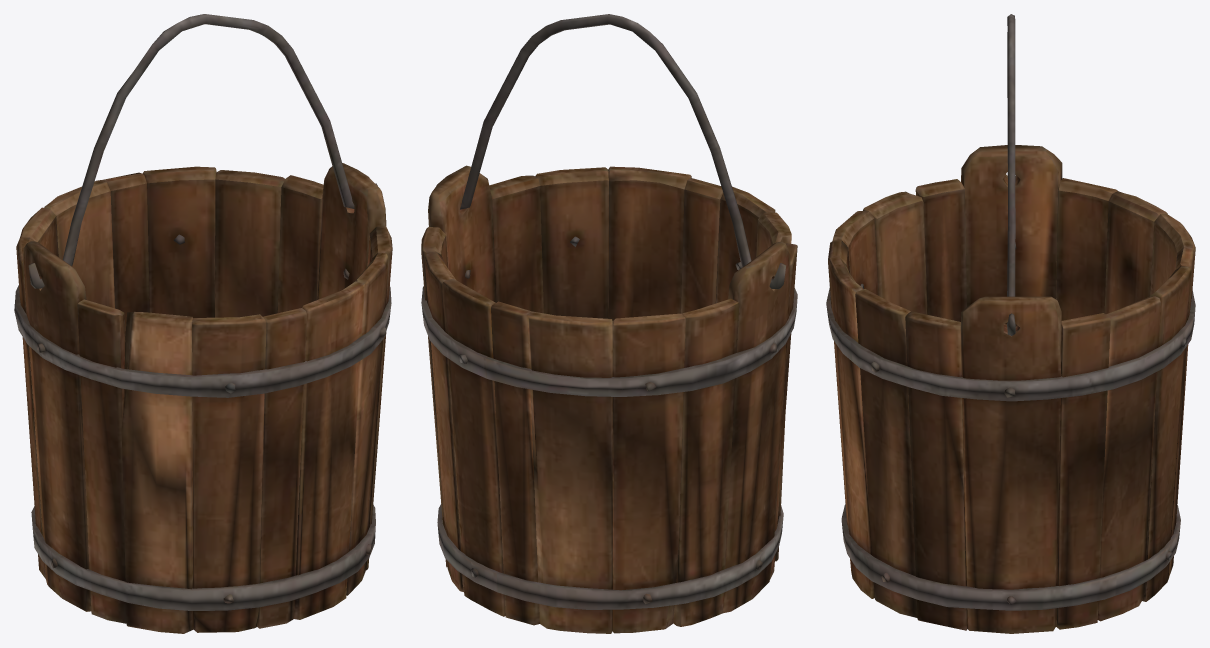
The model's file is ph-wooden_bucket_01.glb.
3 views of the same model, side by side, from view 1: azimuth 30°, elevation 25°; view 2: azimuth 150°, elevation 25°; view 3: azimuth 270°, elevation 25° (orthographic).
Parts seen in each view (by area): view 1: wooden_bucket_01; view 2: wooden_bucket_01; view 3: wooden_bucket_01.
Boxes of the visible parts, bbox=[...] form: wooden_bucket_01: bbox=[14, 14, 392, 633]; wooden_bucket_01: bbox=[421, 14, 797, 633]; wooden_bucket_01: bbox=[826, 14, 1195, 633].
Bounding box in the file's own units: 0.3663 × 0.5499 × 0.3408.
Materials: 1 (1 with a texture image).
